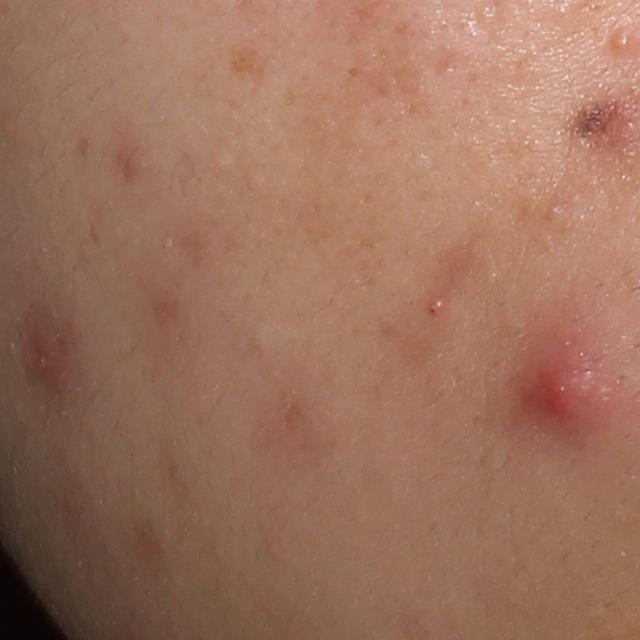atrophic_scar: (435, 52, 469, 78)
comedo: (247, 324, 273, 352), (549, 201, 564, 215)
nevus: (572, 98, 628, 150)
papule: (513, 344, 611, 433), (30, 330, 72, 389)
pustule: (614, 28, 632, 51)
